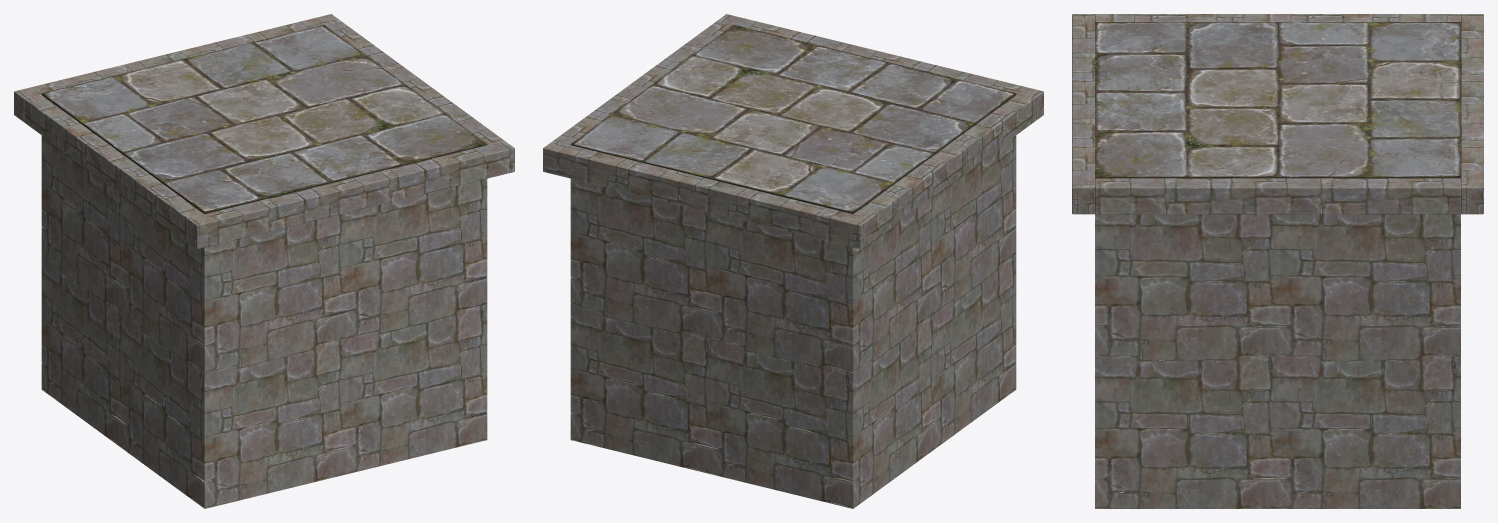
3 renders of one model, left to right at view 1: azimuth 30°, elevation 25°; view 2: azimuth 150°, elevation 25°; view 3: azimuth 270°, elevation 25°, orthographic. The views are drawn at different scales.
Parts seen in each view (by area): view 1: SM_BB_T3_Foundation_Large_LOD0; view 2: SM_BB_T3_Foundation_Large_LOD0; view 3: SM_BB_T3_Foundation_Large_LOD0.
Boxes of the visible parts, x1=… form: SM_BB_T3_Foundation_Large_LOD0: x1=14, y1=14, x2=514, y2=508; SM_BB_T3_Foundation_Large_LOD0: x1=543, y1=14, x2=1043, y2=508; SM_BB_T3_Foundation_Large_LOD0: x1=1072, y1=14, x2=1483, y2=508.
Bounding box in the file's own units: 3.38 × 3 × 3.38.
Materials: 2 (2 with a texture image).
